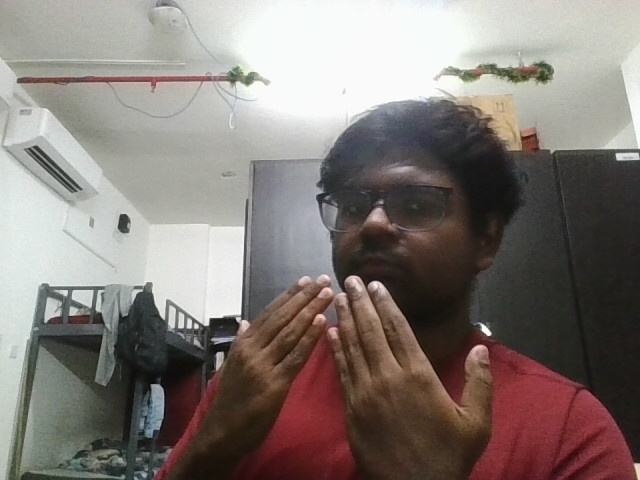Thanks: (180, 268, 511, 480)
